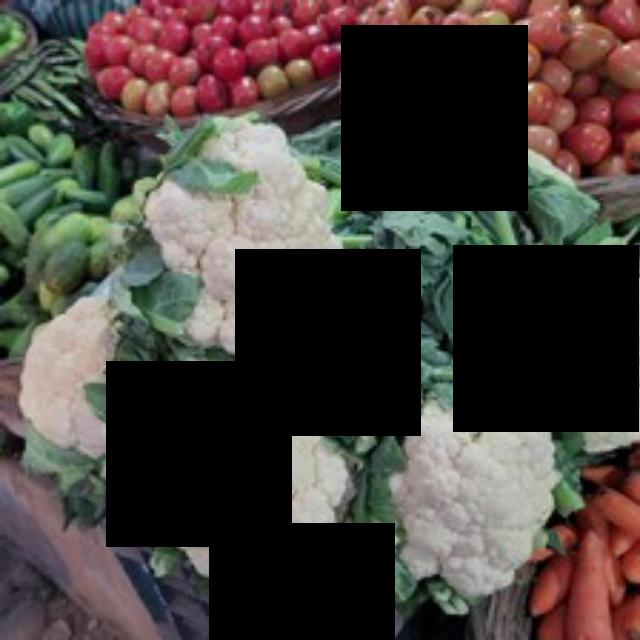cauliflower: (133, 115, 368, 358), (136, 363, 362, 591), (379, 378, 570, 597)
